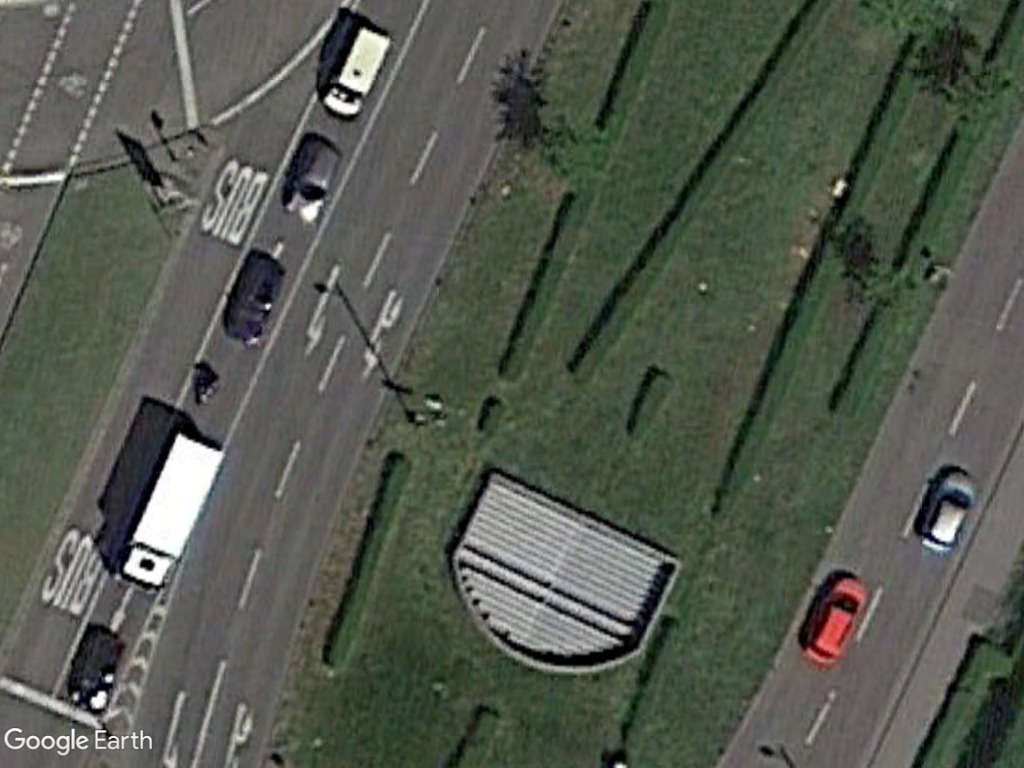car: (794, 574, 874, 668), (911, 469, 982, 560)
truck: (112, 427, 231, 598)
van: (313, 20, 393, 125)
